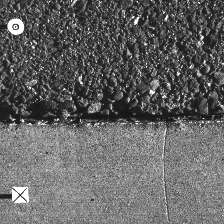circle: (7, 18, 24, 35)
crack: (1, 112, 223, 128)
square: (12, 187, 28, 203)
